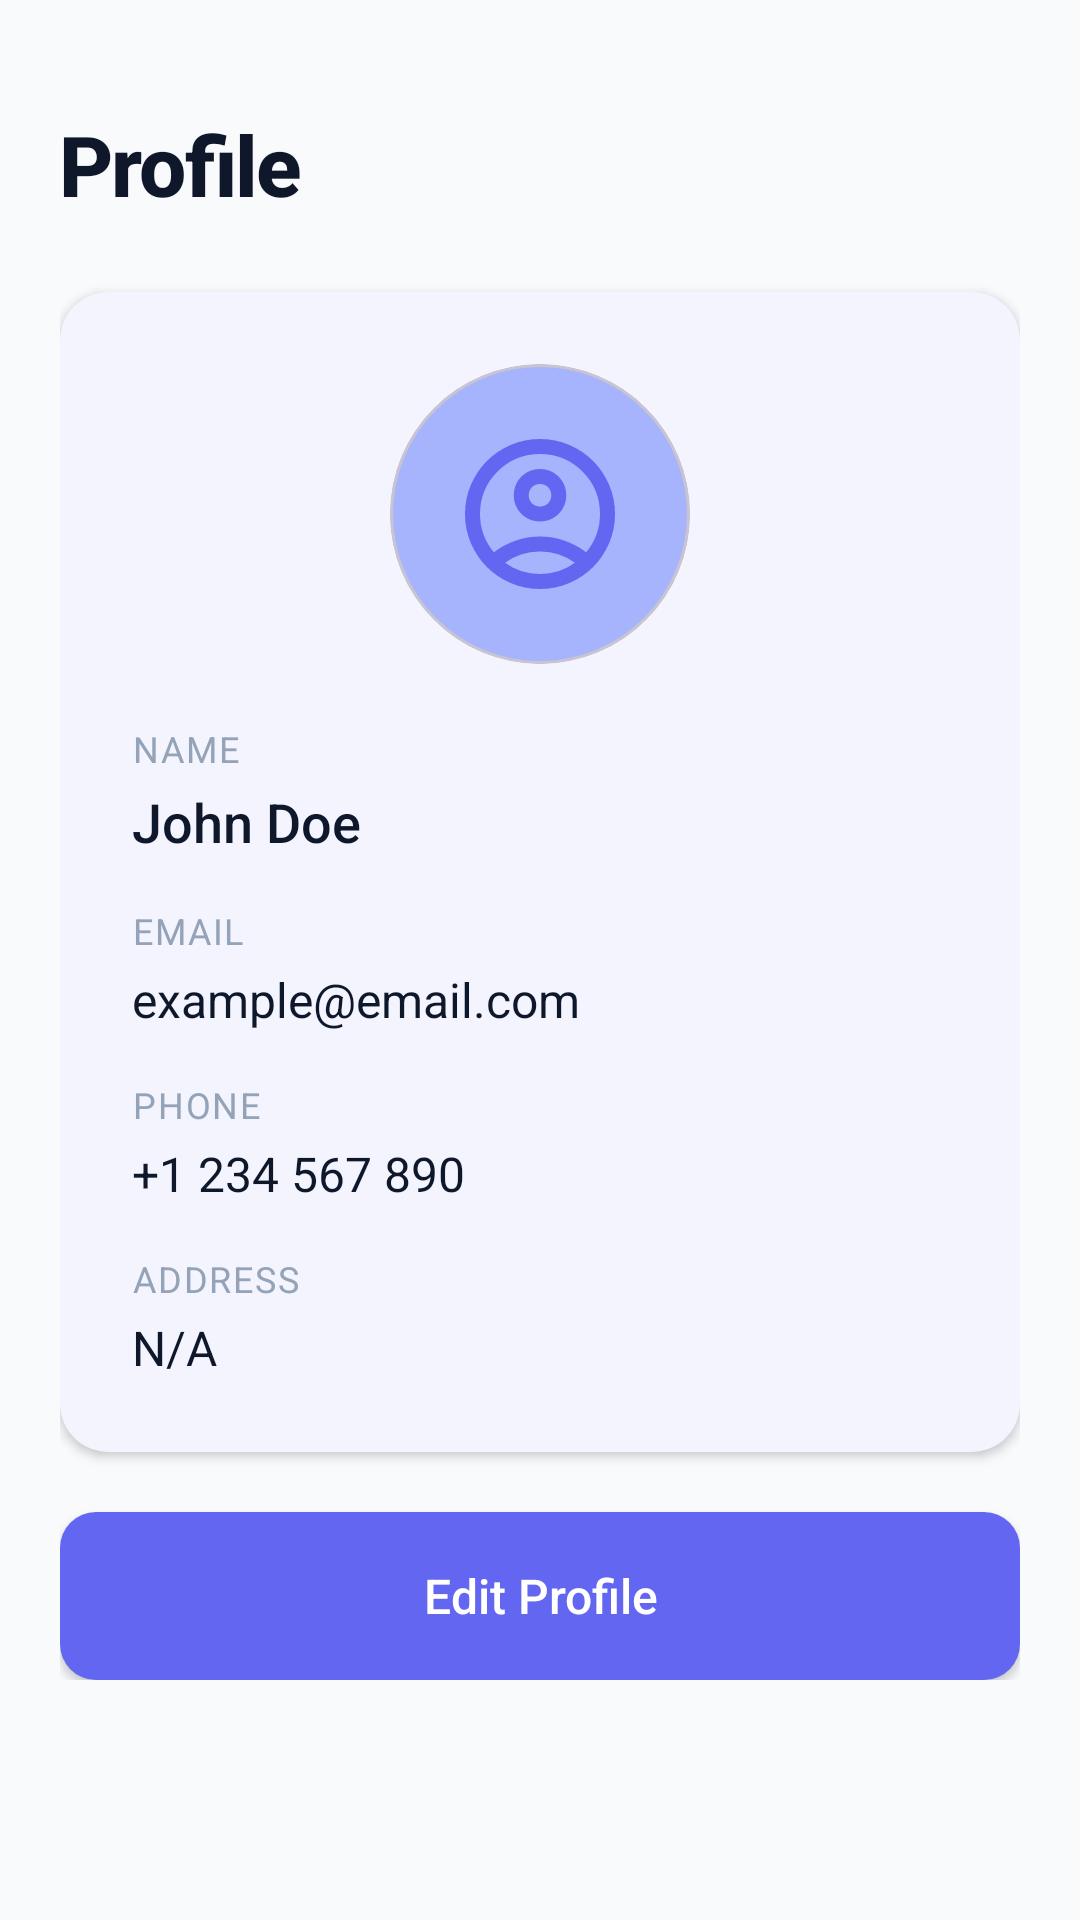

Named icons in this screenshot (1080x1920) and their centers, (x,y):
account circle: (540,514)
